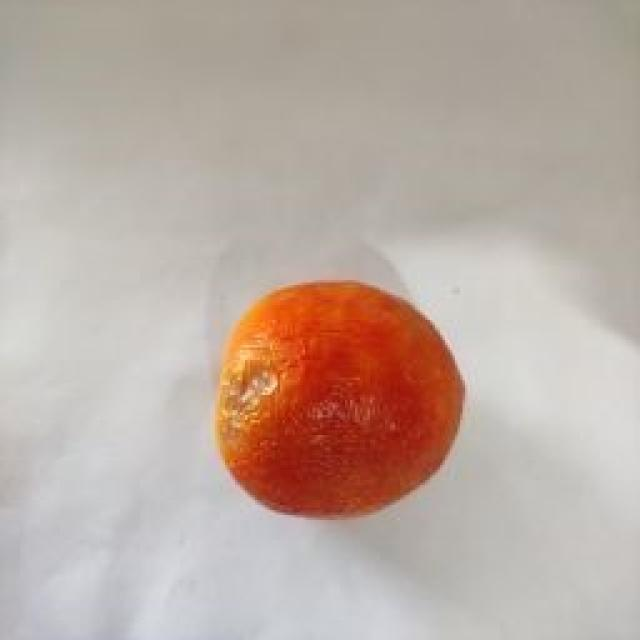overripe: (212, 275, 470, 523)
